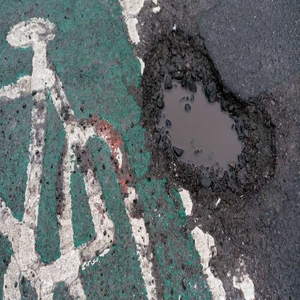pothole: (140, 28, 279, 204)
